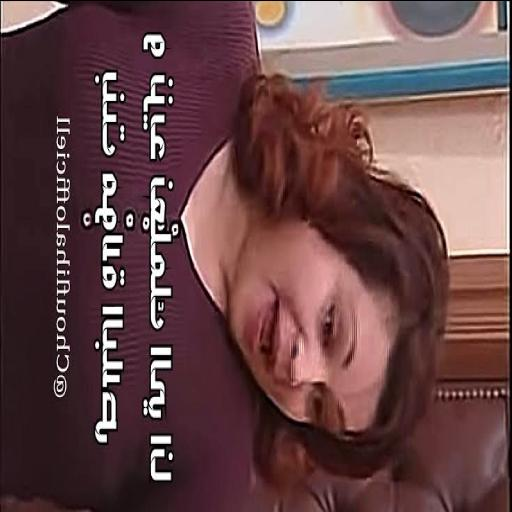AZZA: (222, 198, 396, 435)
